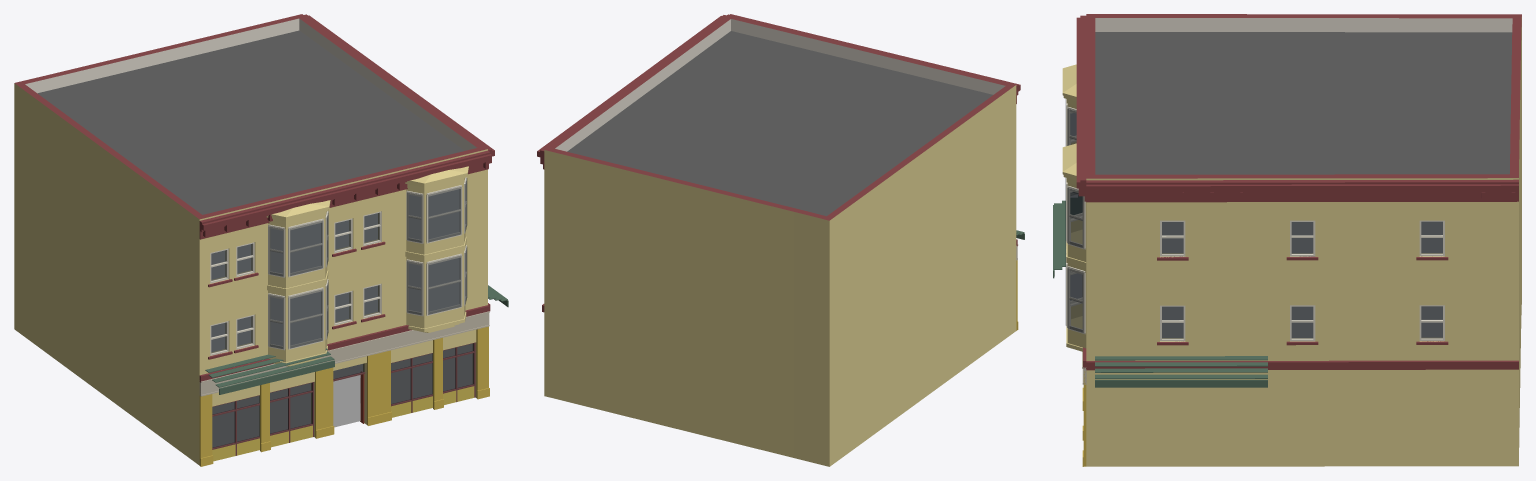
Rendered from exterior.glb.
The picture shows the model from 3 angles, left to right: view 1: azimuth 30°, elevation 25°; view 2: azimuth 150°, elevation 25°; view 3: azimuth 270°, elevation 25°; orthographic projection. The views are drawn at different scales.
Visible parts, largest first — view 1: shell, roof, shadow-proxy, bay-glazing-hyb, trim, glazing, bay-windows-hyb, storefront-piers, storefront, frames, awning-spans-1, awning-valance-1; view 2: shell, roof, trim; view 3: shell, roof, trim, glazing, shadow-proxy, awning-spans-0, bay-glazing-hyb, bay-windows-hyb, frames, awning-valance-0, awning-spans-1.
Boxes of the visible parts, x1=… form: shell: x1=14, y1=14, x2=487, y2=465; roof: x1=37, y1=30, x2=464, y2=214; shadow-proxy: x1=211, y1=189, x2=472, y2=447; bay-glazing-hyb: x1=268, y1=177, x2=467, y2=350; trim: x1=199, y1=14, x2=494, y2=396; glazing: x1=211, y1=213, x2=473, y2=447; bay-windows-hyb: x1=266, y1=166, x2=468, y2=366; storefront-piers: x1=199, y1=326, x2=489, y2=466; storefront: x1=212, y1=342, x2=475, y2=461; frames: x1=210, y1=211, x2=381, y2=355; awning-spans-1: x1=205, y1=348, x2=334, y2=393; awning-valance-1: x1=219, y1=360, x2=334, y2=394; shell: x1=544, y1=14, x2=1016, y2=466; roof: x1=567, y1=31, x2=992, y2=216; trim: x1=537, y1=14, x2=1020, y2=312; shell: x1=1086, y1=14, x2=1521, y2=466; roof: x1=1095, y1=32, x2=1512, y2=174; trim: x1=1076, y1=15, x2=1518, y2=384; glazing: x1=1162, y1=221, x2=1442, y2=338; shadow-proxy: x1=1162, y1=222, x2=1442, y2=337; awning-spans-0: x1=1095, y1=356, x2=1267, y2=379; bay-glazing-hyb: x1=1065, y1=99, x2=1085, y2=334; bay-windows-hyb: x1=1062, y1=64, x2=1086, y2=351; frames: x1=1160, y1=220, x2=1444, y2=341; awning-valance-0: x1=1095, y1=379, x2=1267, y2=387; awning-spans-1: x1=1053, y1=196, x2=1081, y2=276.
Bounding box in the file's own units: 15.83 × 11.89 × 17.53.
